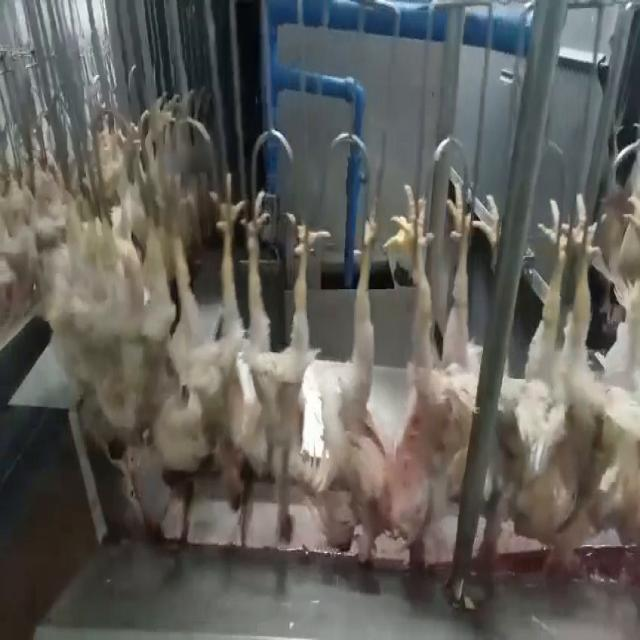chicken: (374, 177, 476, 552), (501, 192, 599, 563), (289, 210, 382, 560), (148, 173, 242, 496), (245, 204, 313, 542), (70, 184, 145, 468), (592, 213, 640, 558)
